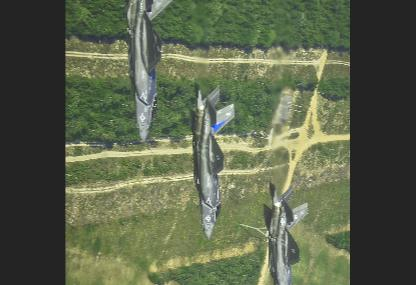F22: (124, 0, 177, 142), (189, 80, 234, 238), (263, 179, 309, 283)
